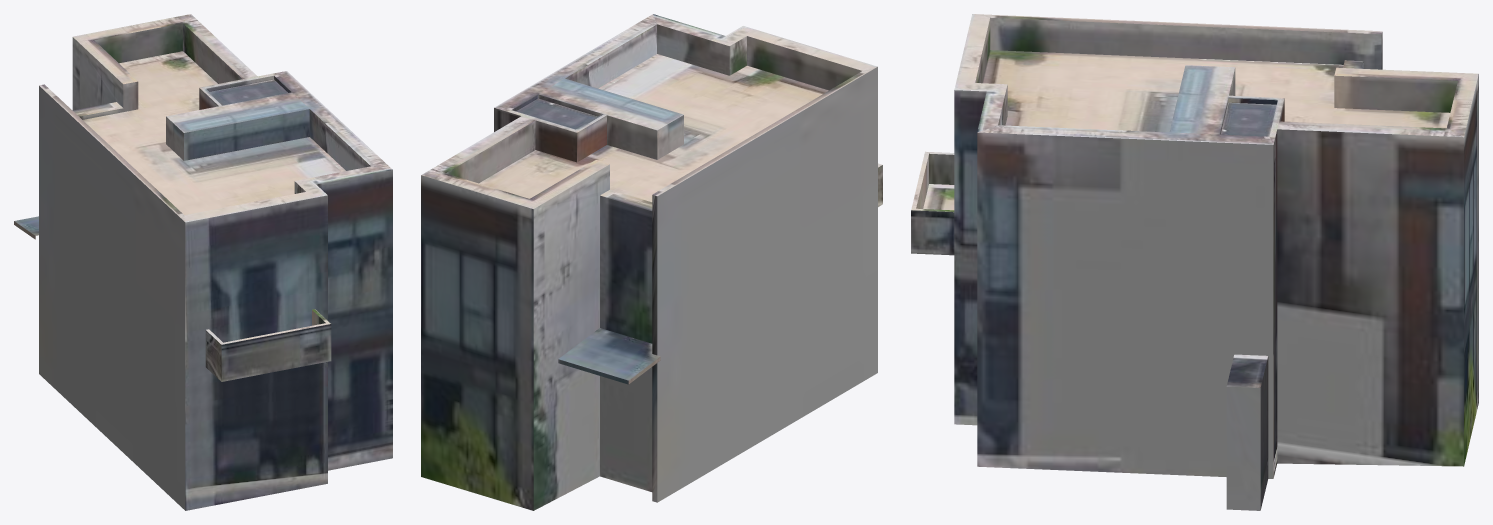
The picture shows the model from 3 angles, left to right: view 1: azimuth 30°, elevation 25°; view 2: azimuth 150°, elevation 25°; view 3: azimuth 270°, elevation 25°; orthographic projection. The views are drawn at different scales.
Parts seen in each view (by area): view 1: B286734035201062A0; view 2: B286734035201062A0; view 3: B286734035201062A0.
Boxes of the visible parts, x1=… form: B286734035201062A0: x1=14, y1=14, x2=392, y2=510; B286734035201062A0: x1=421, y1=14, x2=882, y2=510; B286734035201062A0: x1=911, y1=14, x2=1478, y2=510.
Size of the model in its own units: 10.38 by 9.95 by 15.31.
Materials: 1 (1 with a texture image).
